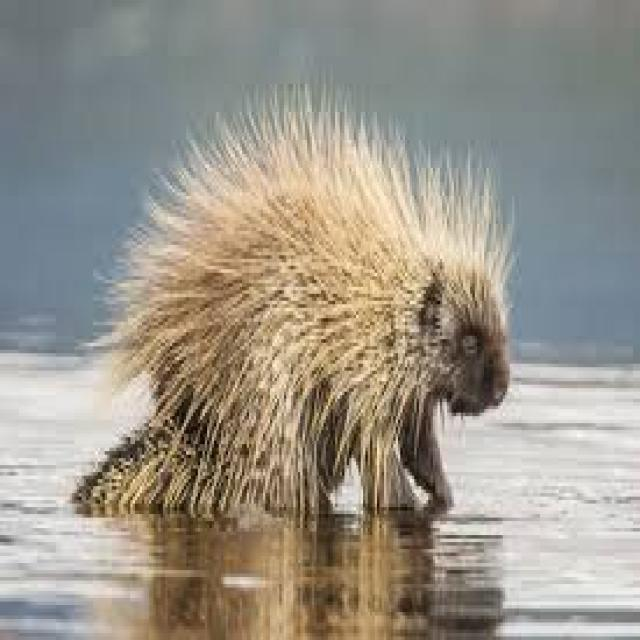Porcupine: (97, 126, 509, 534)
